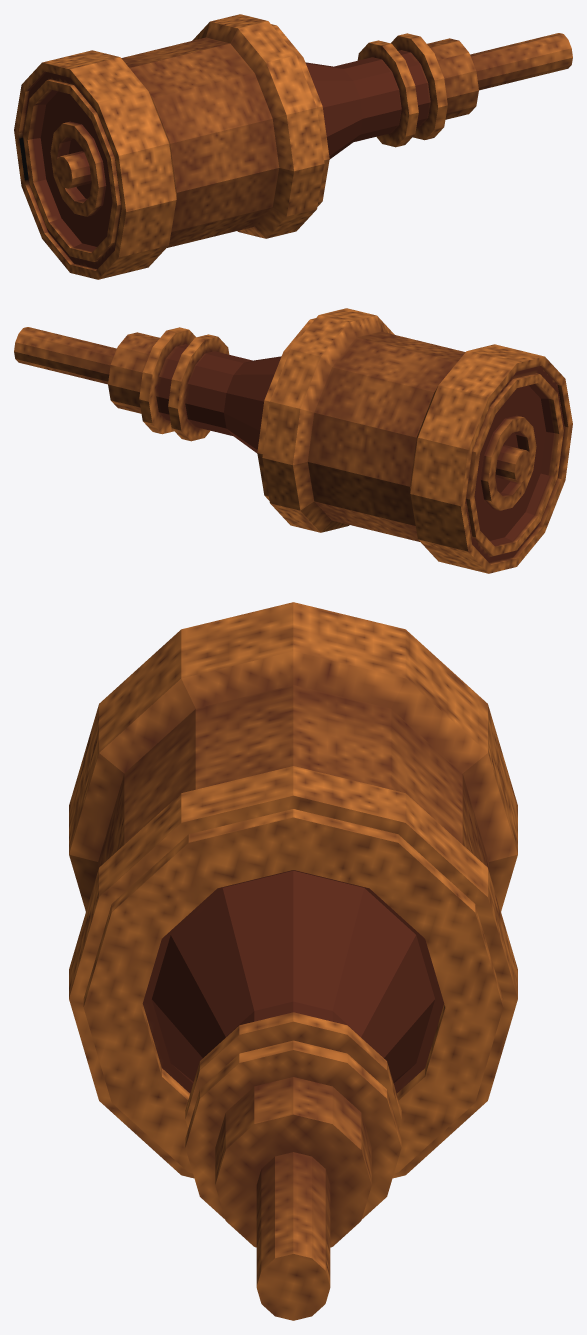
3 views of the same model, one above another, from view 1: azimuth 30°, elevation 25°; view 2: azimuth 150°, elevation 25°; view 3: azimuth 270°, elevation 25° (orthographic). The views are drawn at different scales.
Parts seen in each view (by area): view 1: Cylinder.018; view 2: Cylinder.018; view 3: Cylinder.018.
Boxes of the visible parts, left/top/right/bottom form: Cylinder.018: left=14, top=14, right=572, bottom=279; Cylinder.018: left=14, top=308, right=572, bottom=573; Cylinder.018: left=69, top=602, right=517, bottom=1320.
Bounding box in the file's own units: 1.91 × 0.7433 × 0.7433.
1 material, 1 textured.
